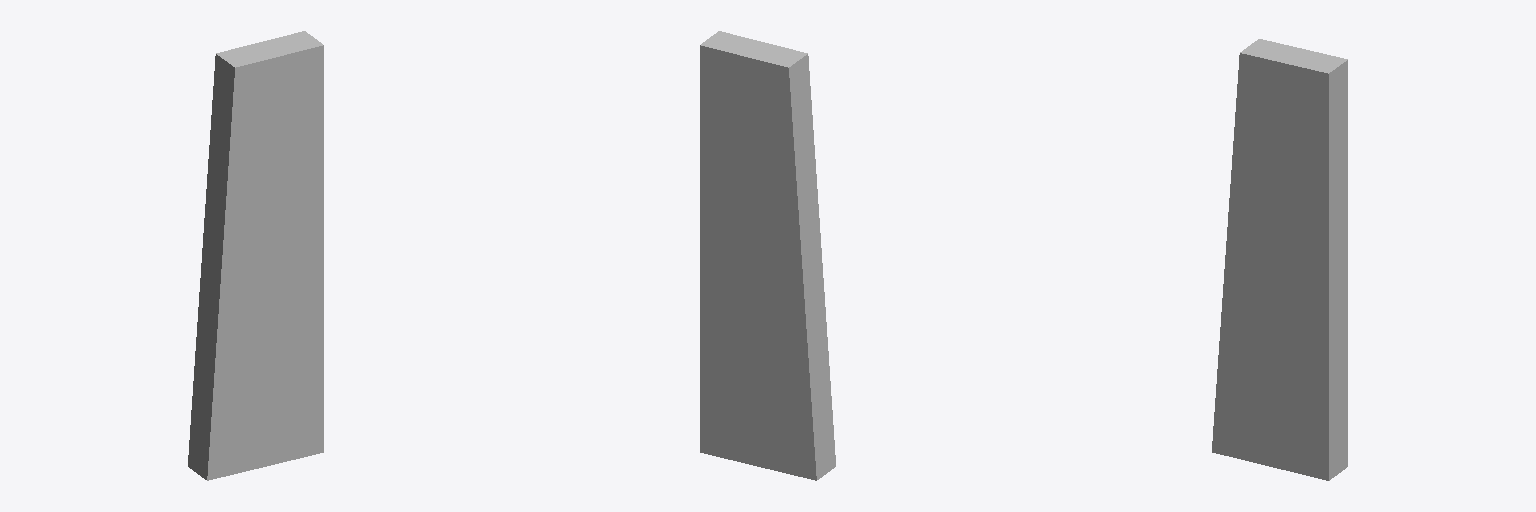
The model's file is Right_Rudder.obj.
The picture shows the model from 3 angles: view 1: azimuth 30°, elevation 25°; view 2: azimuth 150°, elevation 25°; view 3: azimuth 330°, elevation 25°; orthographic projection.
Parts seen in each view (by area): view 1: Right_Rudder_Cube.017; view 2: Right_Rudder_Cube.017; view 3: Right_Rudder_Cube.017.
Boxes of the visible parts, box(x1,y1,x2,y2) form: Right_Rudder_Cube.017: box(188, 31, 323, 480); Right_Rudder_Cube.017: box(700, 31, 835, 480); Right_Rudder_Cube.017: box(1212, 39, 1347, 480).
Size of the model in its own units: 0.5213 by 1.73 by 0.1502.